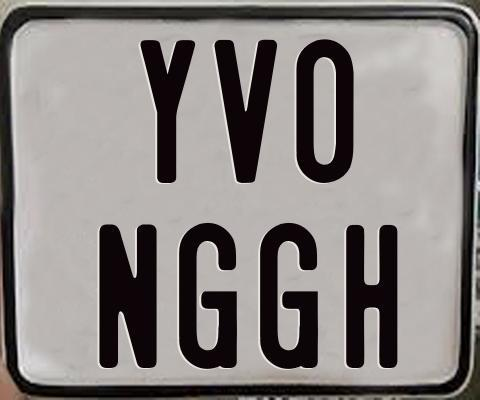0: (293, 36, 353, 185)
G: (258, 223, 319, 375), (176, 223, 236, 375)
H: (344, 224, 402, 371)
N: (97, 223, 159, 367)
V: (213, 40, 282, 188)
Y: (138, 38, 198, 184)
